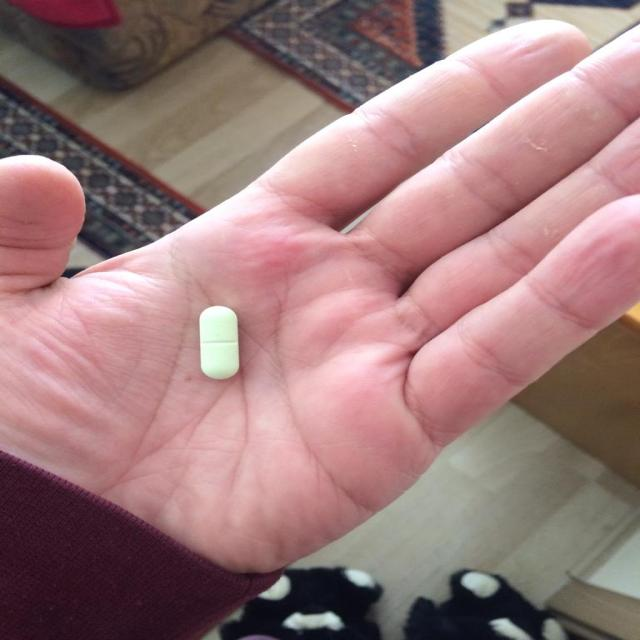pills: (189, 299, 254, 385)
